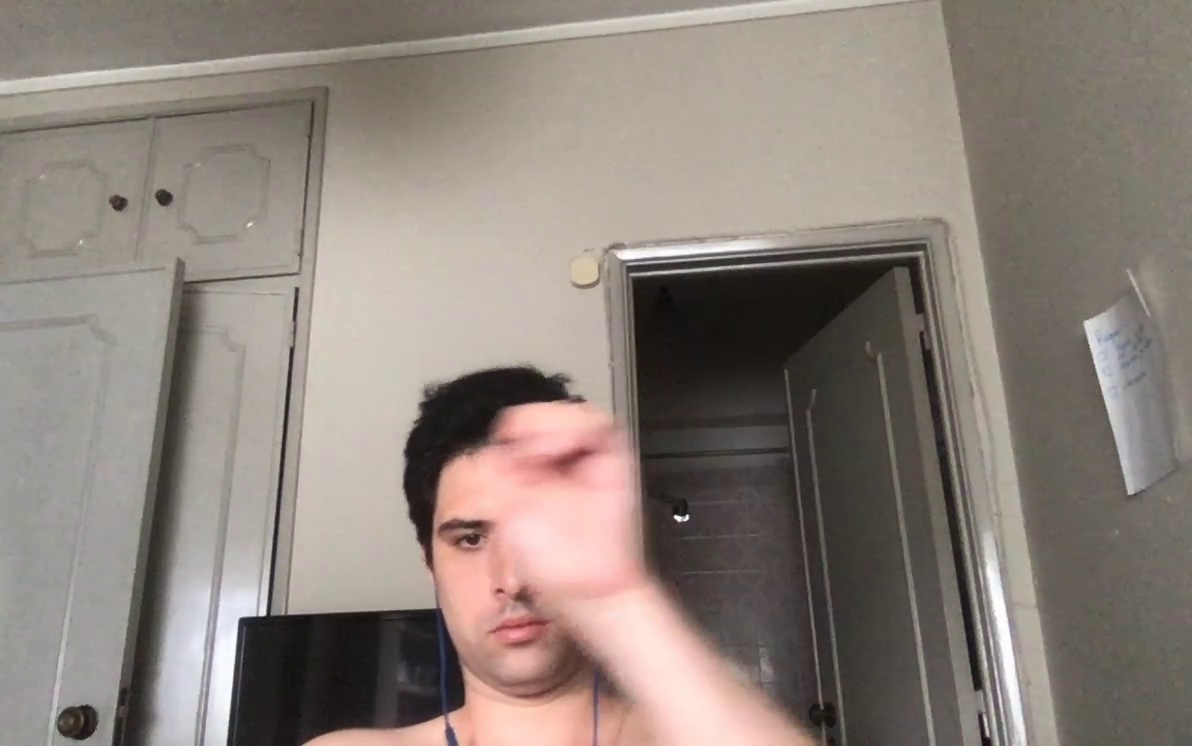c: (476, 392, 663, 608)
